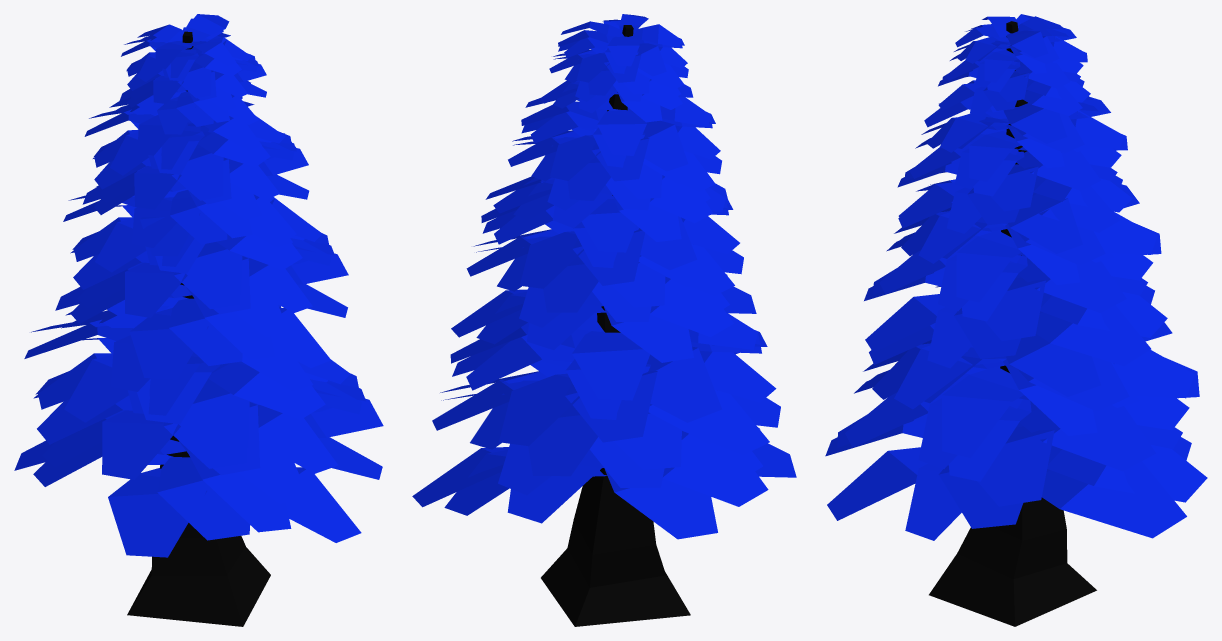
Rendered from Tree4.fbx.
The picture shows the model from 3 angles, left to right: view 1: azimuth 30°, elevation 25°; view 2: azimuth 150°, elevation 25°; view 3: azimuth 270°, elevation 25°; orthographic projection.
Parts seen in each view (by area): view 1: Tree 4 Leaves; view 2: Tree 4 Leaves; view 3: Tree 4 Leaves.
Part boxes in pixels (x1,y1,x2,y2): Tree 4 Leaves: (14, 14, 383, 626); Tree 4 Leaves: (412, 14, 796, 626); Tree 4 Leaves: (825, 14, 1207, 626).
Size of the model in its own units: 4.74 by 7.95 by 4.85.
